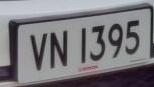1: (76, 22, 91, 69)
3: (88, 19, 108, 66)
5: (123, 14, 142, 58)
9: (106, 18, 125, 63)
N: (49, 27, 71, 75)
V: (27, 29, 49, 76)
